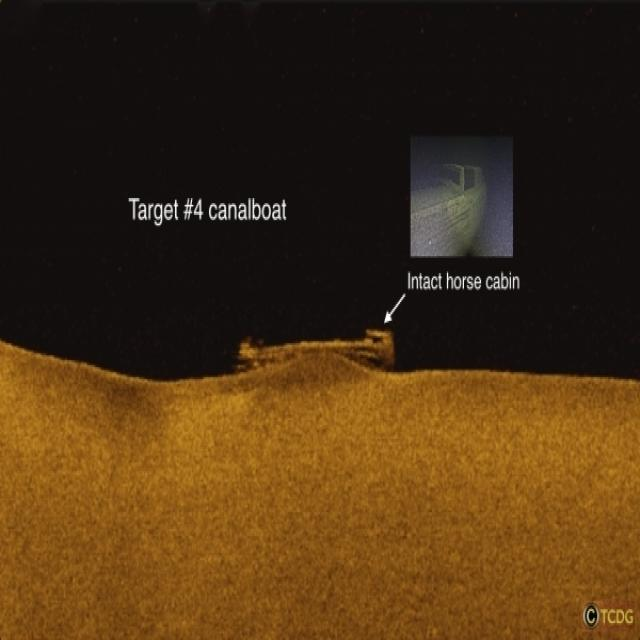ship: (227, 318, 398, 377)
